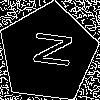N: (23, 28, 73, 70)
